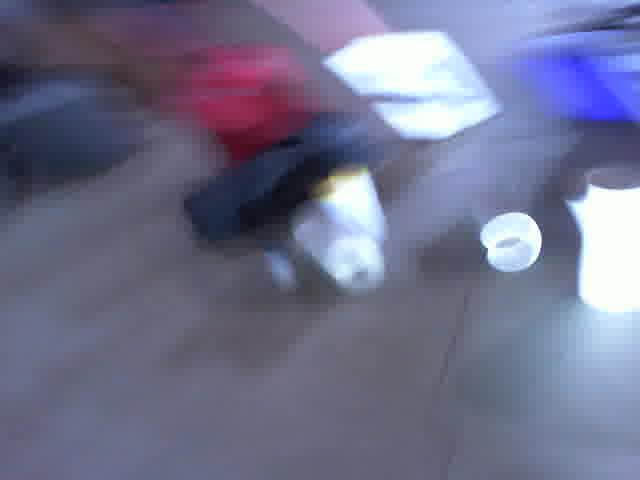coral: (572, 154, 640, 314)
